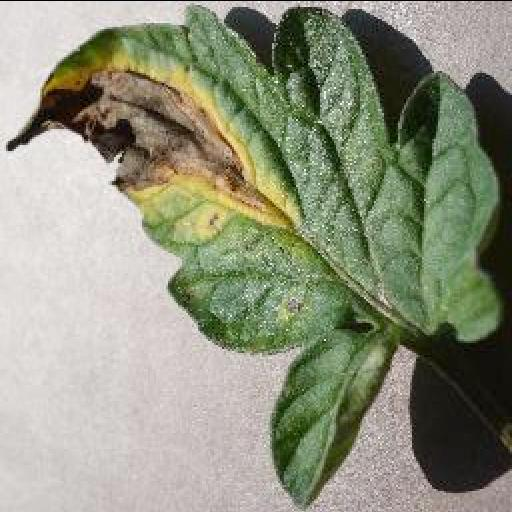disease_tomato: (2, 5, 502, 502)
